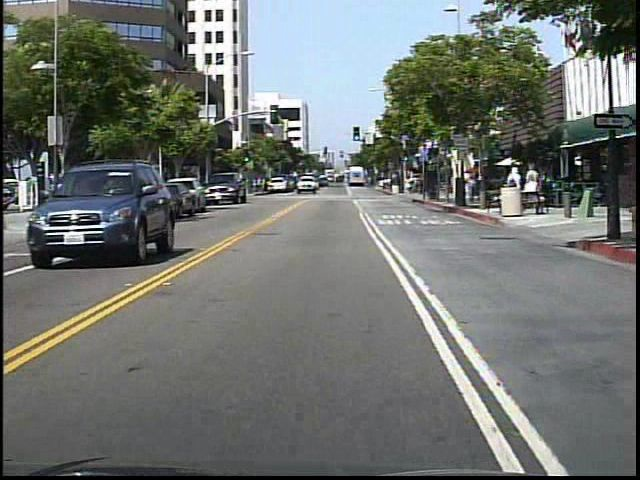person: (463, 172, 478, 206), (256, 174, 270, 199)
